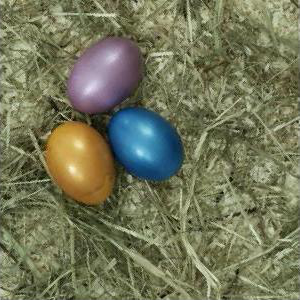egg: (46, 121, 118, 206), (67, 37, 143, 115), (108, 107, 184, 181)
